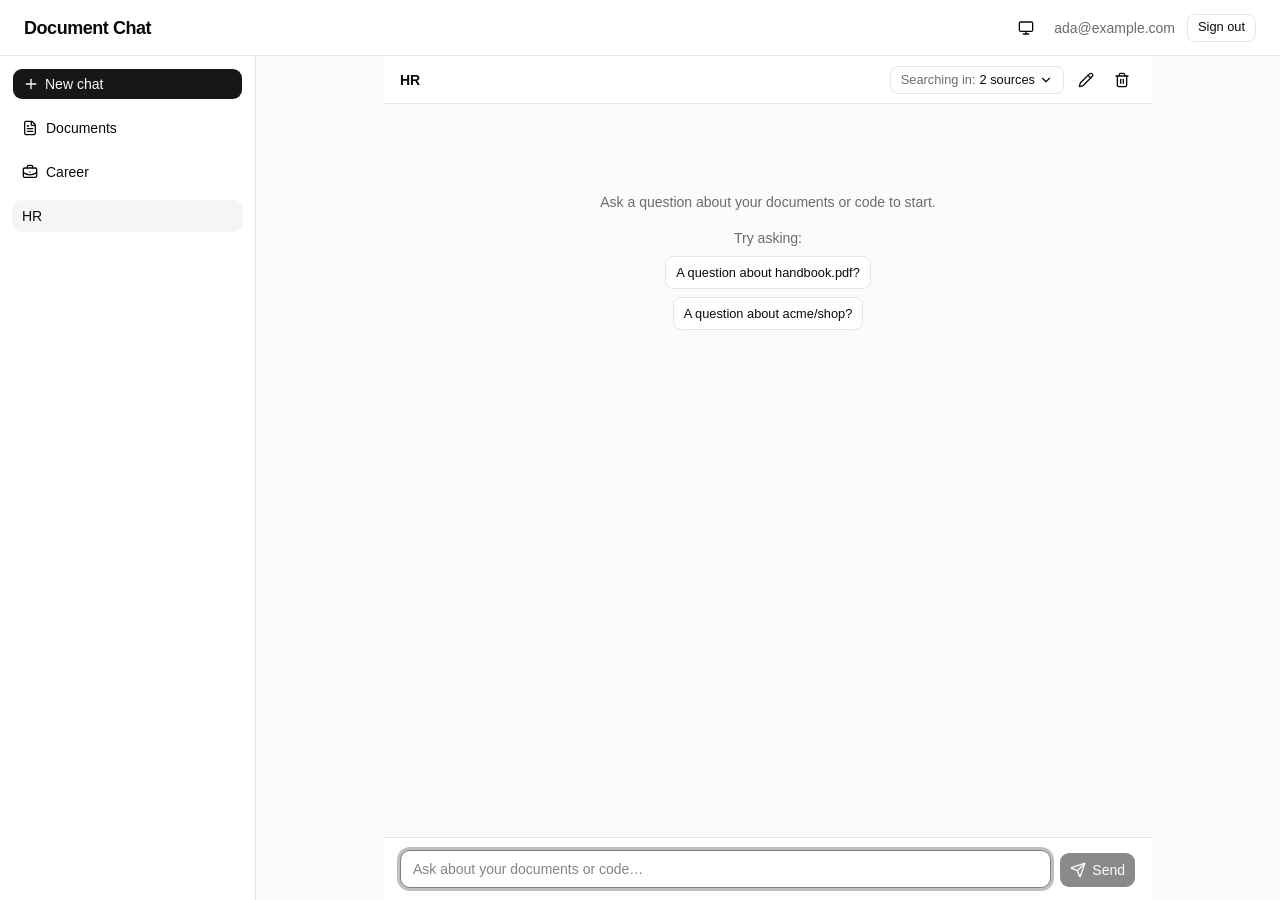
choosing the sources of a chat › the list › shows every source with a checkbox, ticked for those that are searched
Click the button "Searching in: 2 sources": (977, 80) [890,66,1064,94]
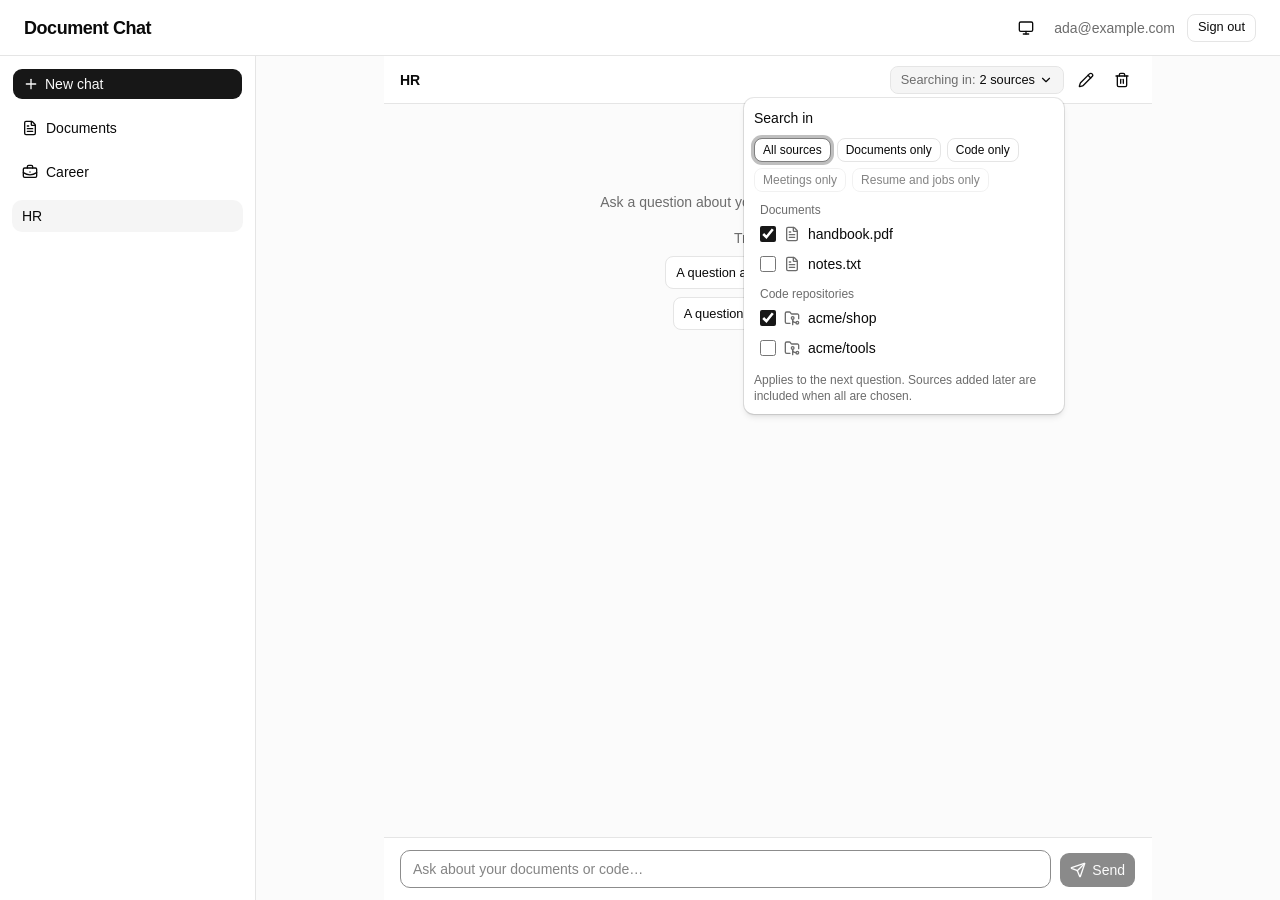
Expected: the number of checkboxes is 4, [760,226,776,242]; [760,256,776,272]; [760,310,776,326]; [760,340,776,356]
Expected: the checkbox labelled "acme/shop" is checked, [760,310,776,326]
Expected: the checkbox labelled "handbook.pdf" is checked, [760,226,776,242]
